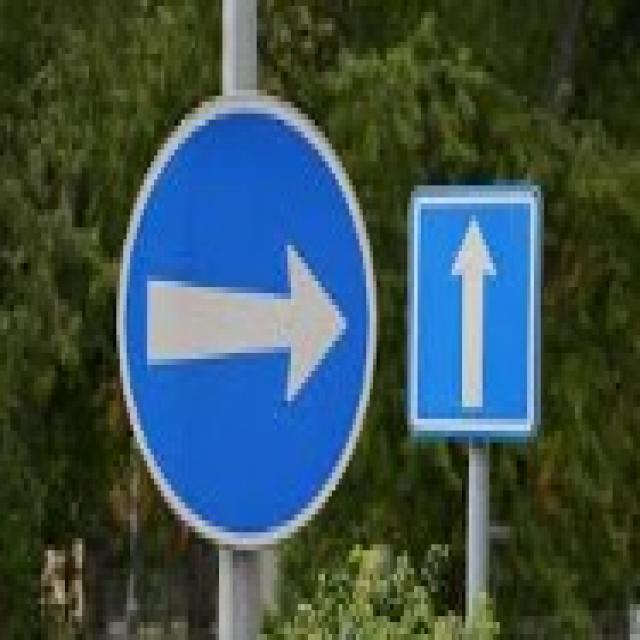Turn Right: (117, 91, 357, 545)
